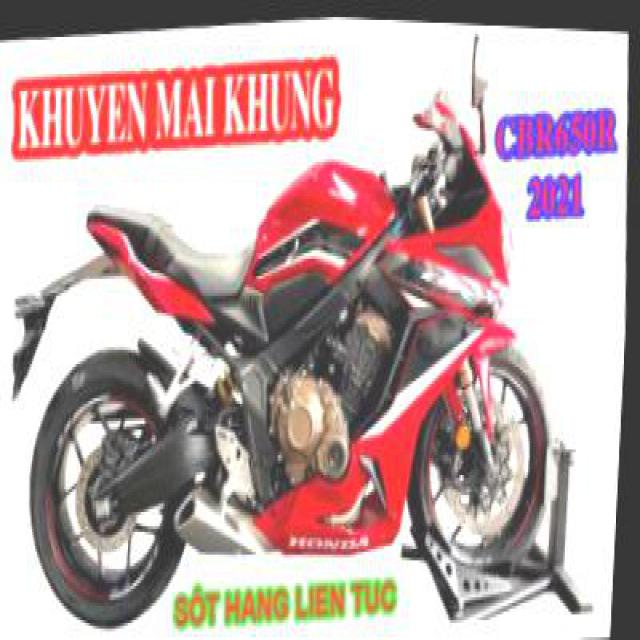CBR650R: (11, 46, 579, 637)
